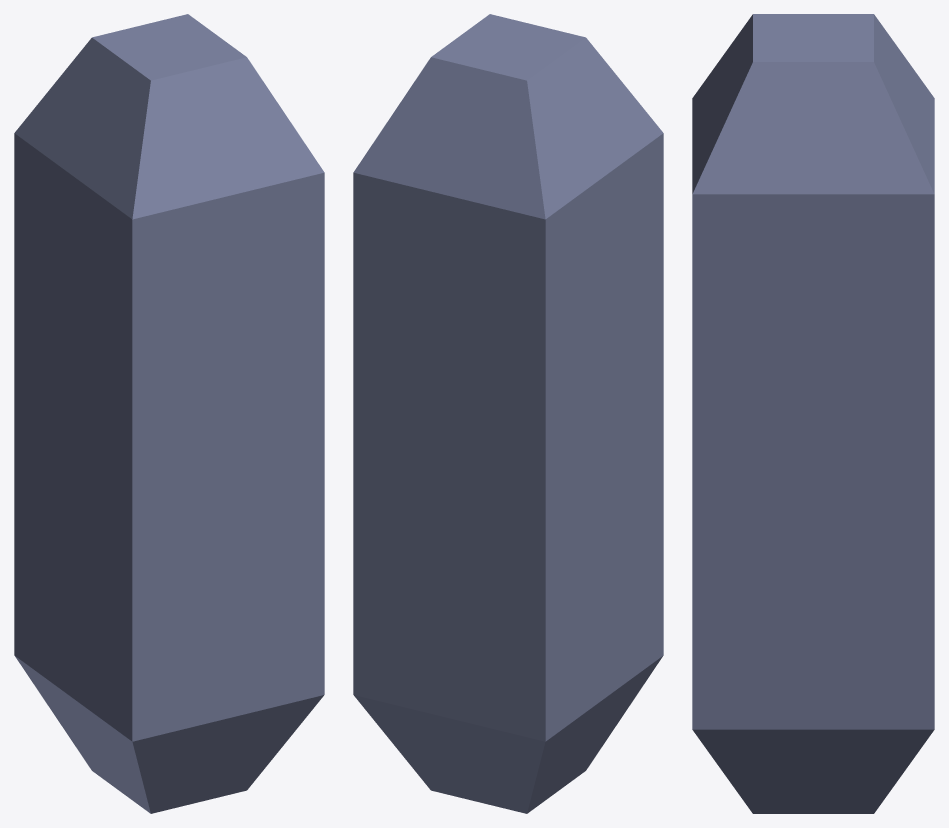
The model's file is Bandit3UpperLeg.fbx.
The picture shows the model from 3 angles, left to right: view 1: azimuth 30°, elevation 25°; view 2: azimuth 150°, elevation 25°; view 3: azimuth 270°, elevation 25°; orthographic projection. The views are drawn at different scales.
Parts seen in each view (by area): view 1: Bandit3UpperLeg; view 2: Bandit3UpperLeg; view 3: Bandit3UpperLeg.
Boxes of the visible parts, x1,y1,x2,y2 form: Bandit3UpperLeg: (14, 14, 324, 813); Bandit3UpperLeg: (353, 14, 663, 813); Bandit3UpperLeg: (692, 14, 934, 813).
Size of the model in its own units: 0.1568 by 0.5717 by 0.1668.
